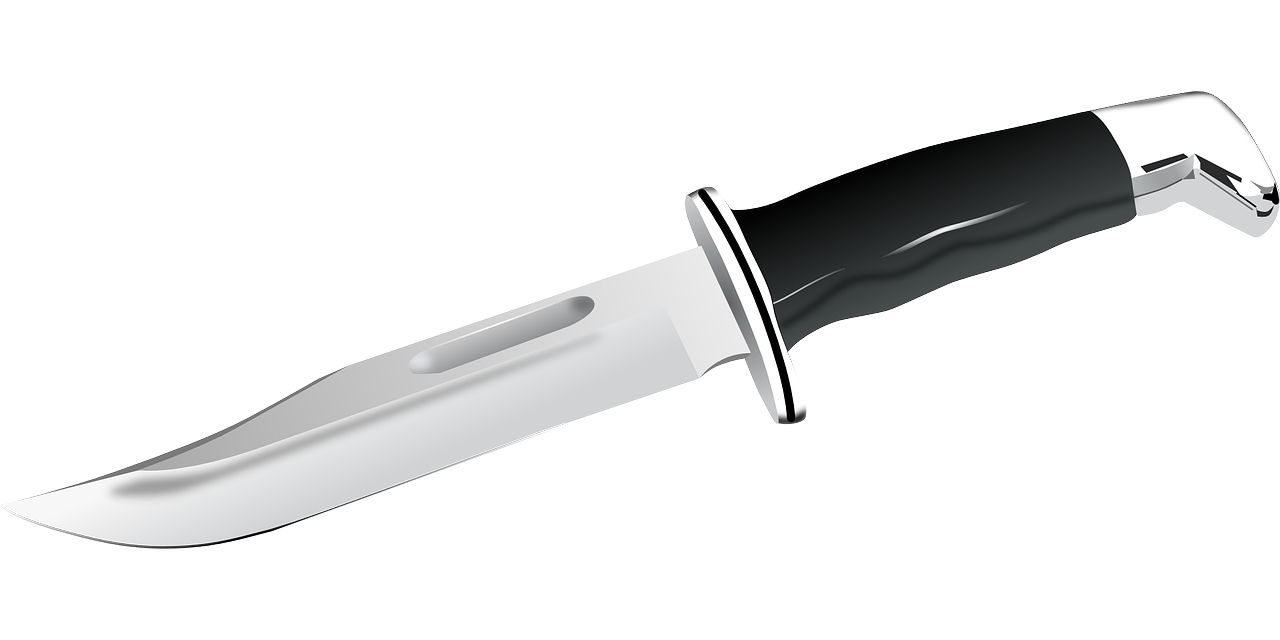knife: (0, 92, 1280, 548)
